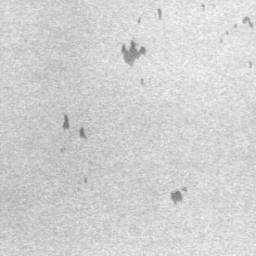Iron scale compression: (122, 40, 146, 66), (242, 14, 254, 29), (170, 190, 182, 205), (59, 115, 69, 131), (78, 127, 88, 140), (154, 8, 162, 20), (135, 14, 143, 24)
